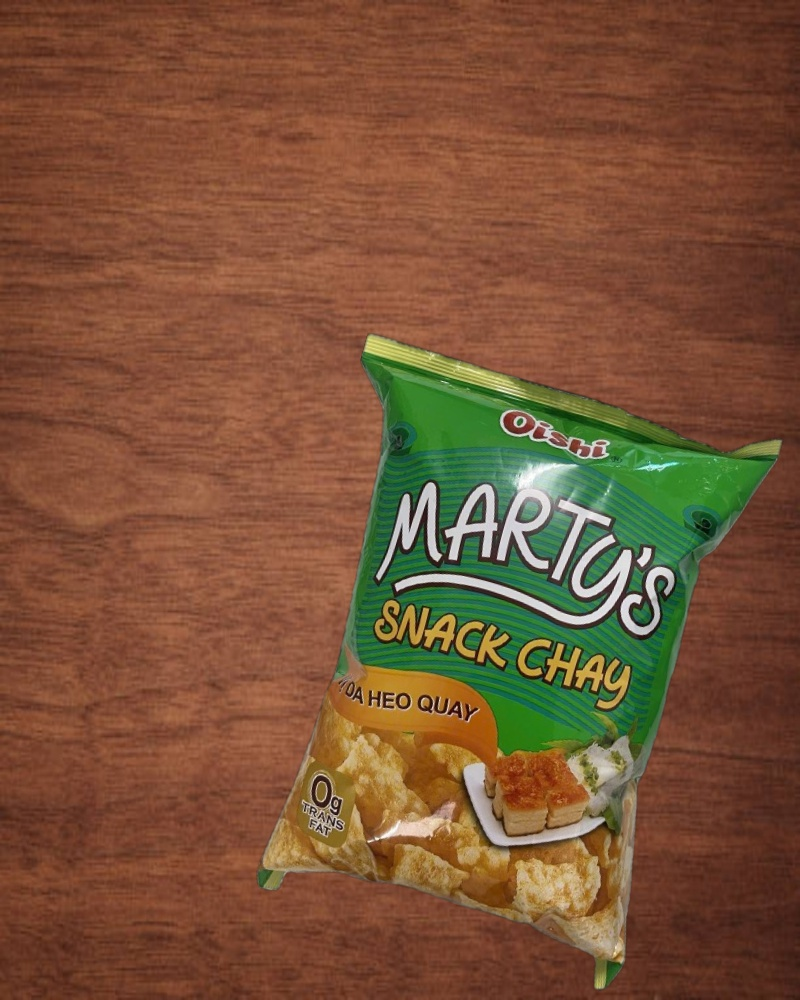Snack chay: (219, 329, 784, 1000)
